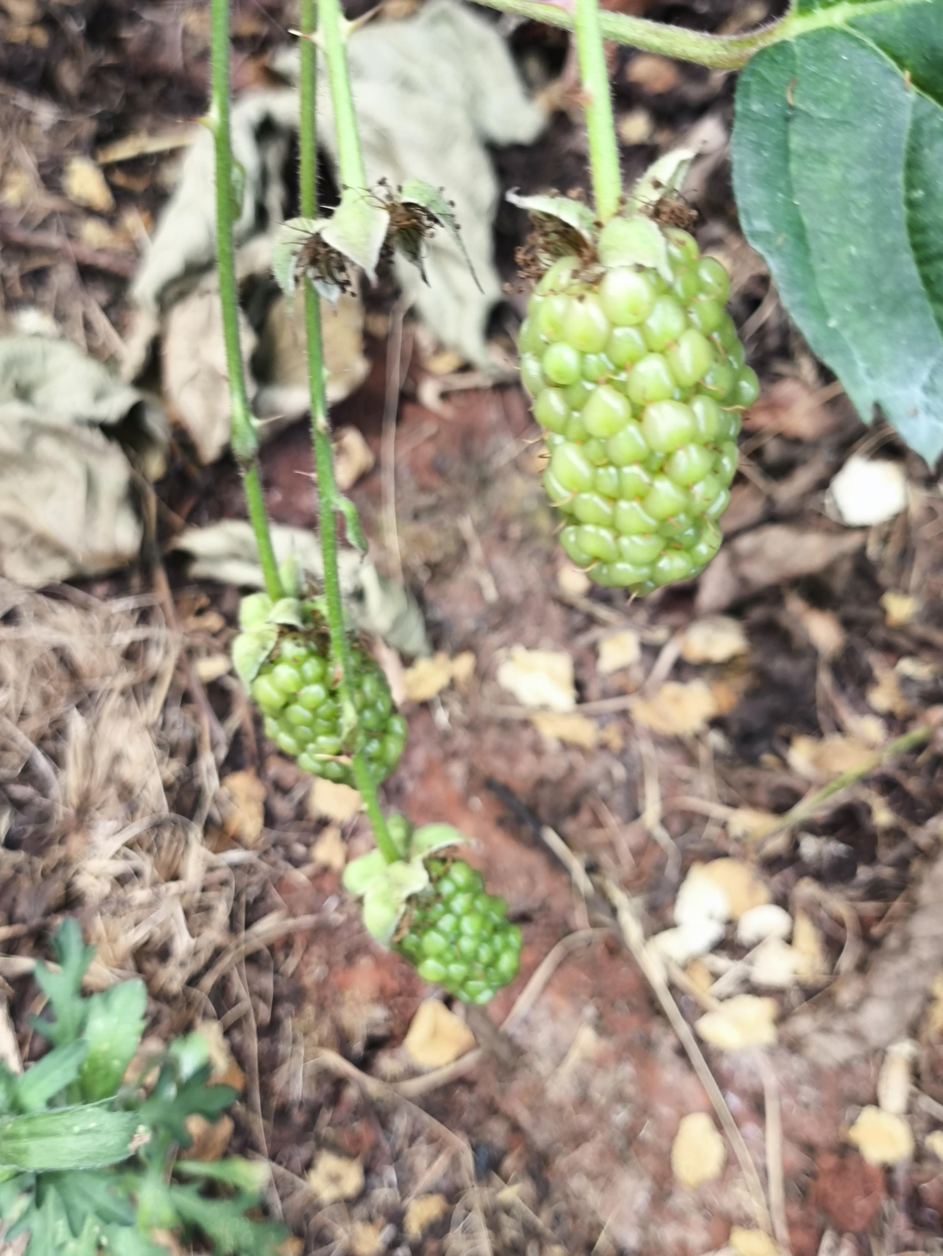verde: (519, 215, 758, 597), (249, 614, 406, 786), (394, 859, 521, 1004)
